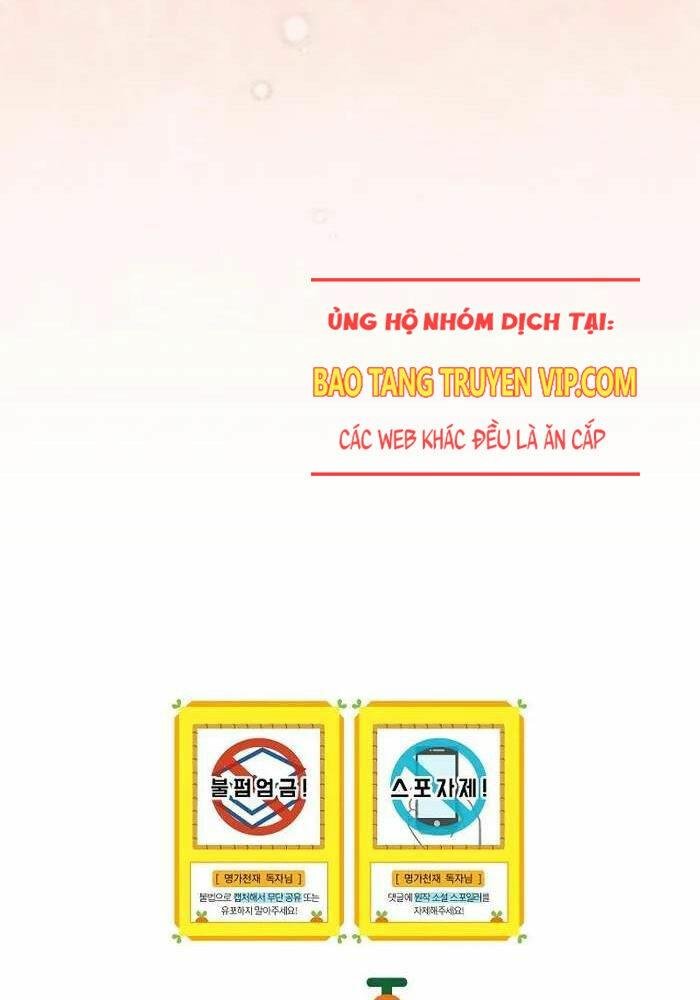quangcao: (307, 274, 646, 481)
